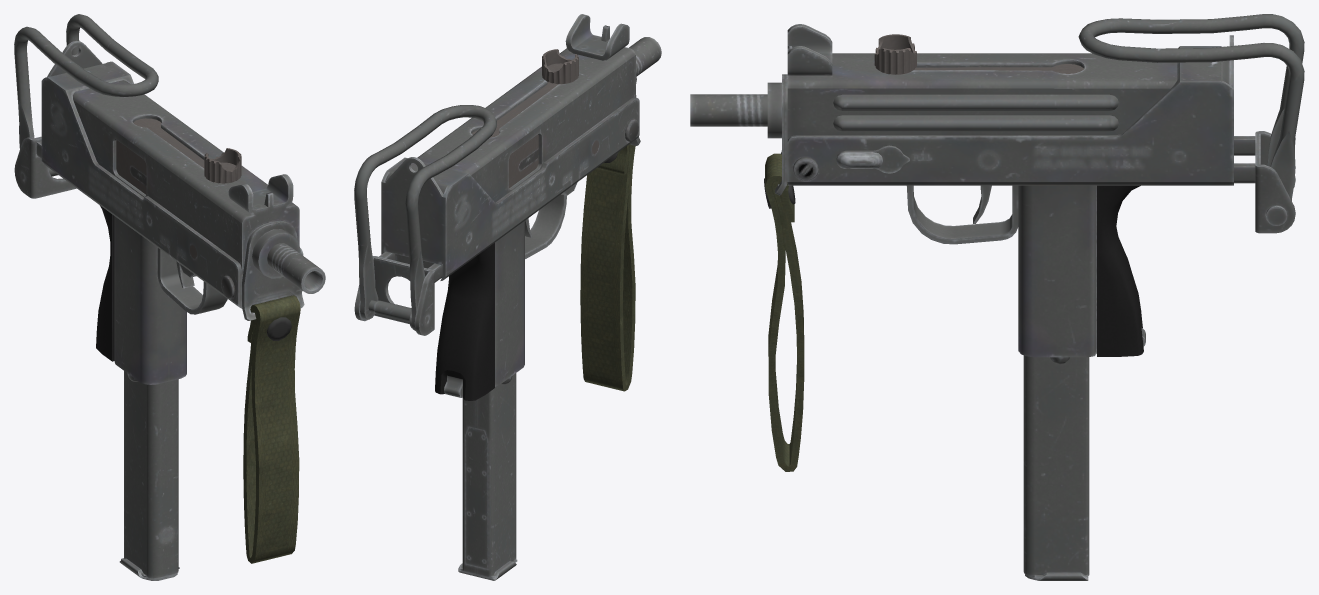
Rendered from SM_SMG11_Y.glb.
The picture shows the model from 3 angles, left to right: view 1: azimuth 30°, elevation 25°; view 2: azimuth 150°, elevation 25°; view 3: azimuth 270°, elevation 25°; orthographic projection. The views are drawn at different scales.
Visible parts, largest first — view 1: SM_SMG11_Y; view 2: SM_SMG11_Y; view 3: SM_SMG11_Y.
Part boxes in pixels (left/top/right/bottom): SM_SMG11_Y: left=14, top=14, right=325, bottom=580; SM_SMG11_Y: left=354, top=14, right=661, bottom=580; SM_SMG11_Y: left=690, top=14, right=1304, bottom=580.
Size of the model in its own units: 5.22 by 31.61 by 32.42.
2 materials, 2 textured.
